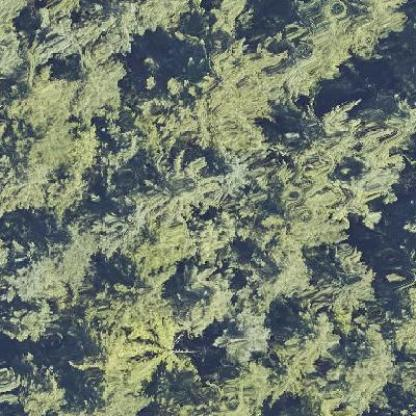tree-top: (122, 316, 197, 382), (169, 265, 231, 334), (67, 51, 131, 116), (4, 69, 70, 127), (279, 309, 337, 371), (317, 251, 378, 309), (92, 198, 150, 254), (158, 160, 213, 212), (218, 311, 270, 365), (8, 301, 63, 344), (18, 368, 68, 411)
